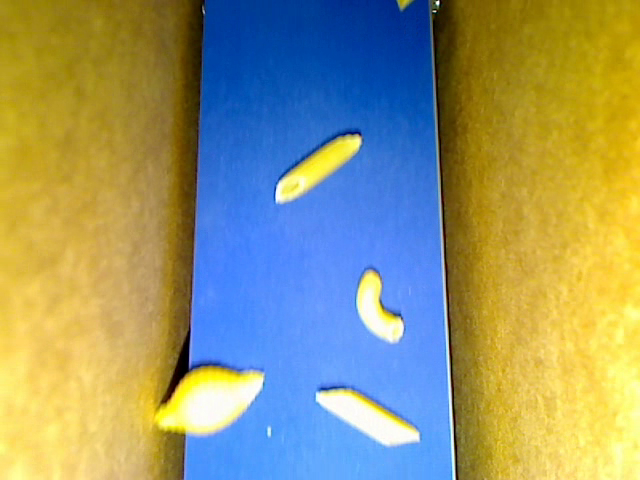elbow: (356, 268, 405, 345)
penne: (315, 387, 421, 447), (274, 134, 362, 205)
shell: (155, 365, 264, 438)
